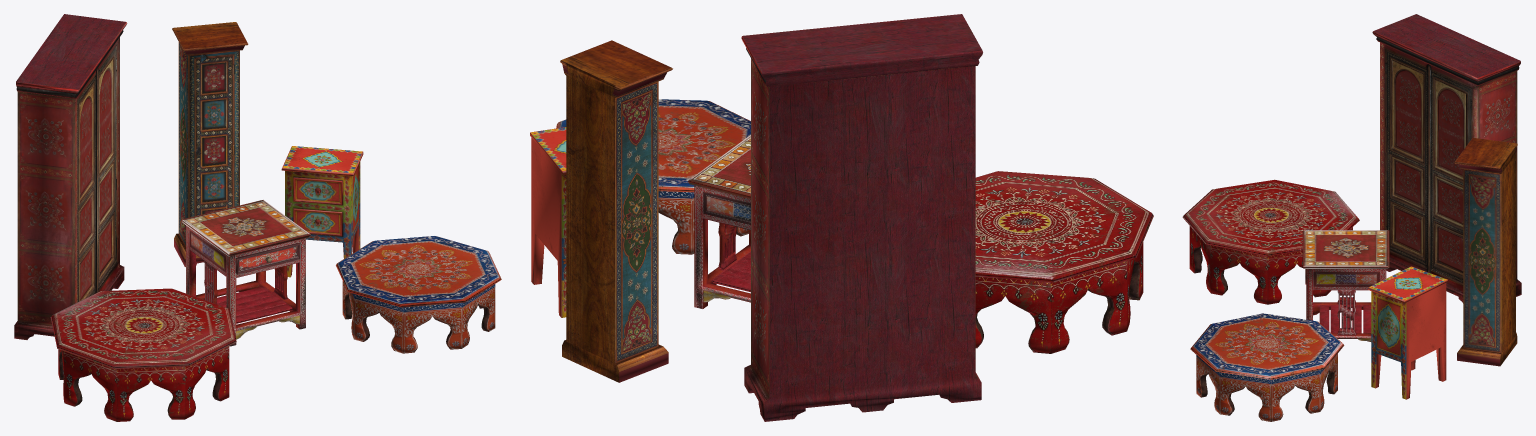
Rendered from indian_furniture.glb.
3 views of the same model, side by side, from view 1: azimuth 30°, elevation 25°; view 2: azimuth 150°, elevation 25°; view 3: azimuth 270°, elevation 25° (orthographic). The views are drawn at different scales.
Visible parts, largest first — view 1: defaultobject; view 2: defaultobject; view 3: defaultobject.
Boxes of the visible parts, x1,y1,x2,y2 form: defaultobject: (14, 14, 501, 421); defaultobject: (530, 14, 1153, 421); defaultobject: (1182, 14, 1521, 421).
Bounding box in the file's own units: 20.87 × 11.95 × 15.62.
6 materials, 6 textured.
